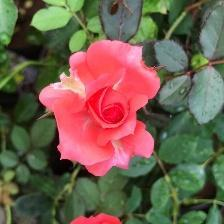rose: (39, 39, 166, 178)
